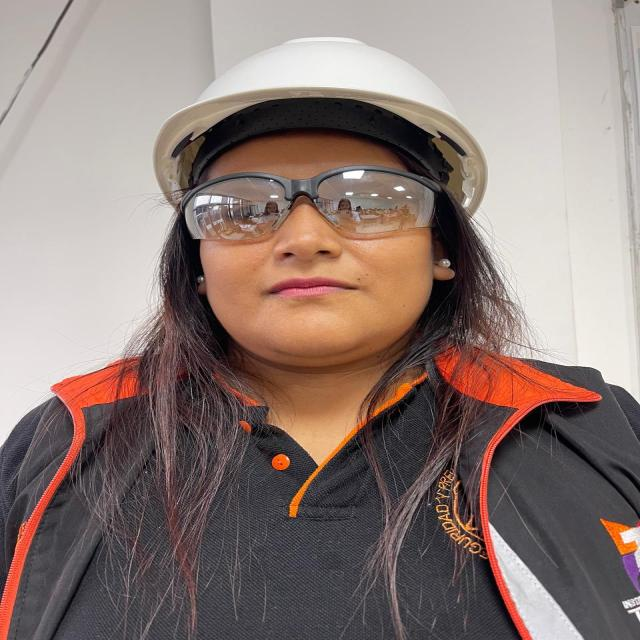helmet: (153, 37, 484, 160)
protective_glasses: (181, 166, 435, 241)
